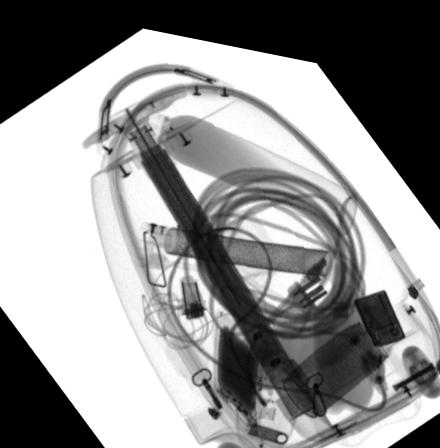Lighter: (352, 274, 405, 332)
Powerbank: (215, 299, 264, 423)
Sprayer: (129, 101, 357, 222)
